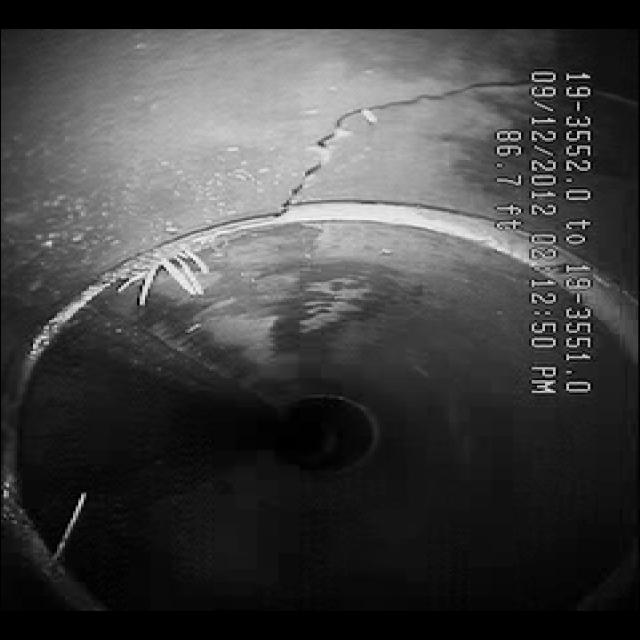Fracture: (253, 64, 494, 222)
